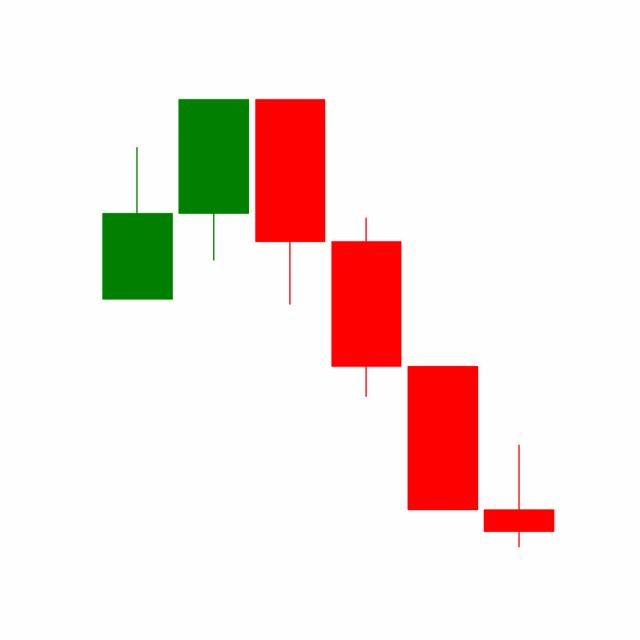Marubozu: (403, 364, 481, 512)
